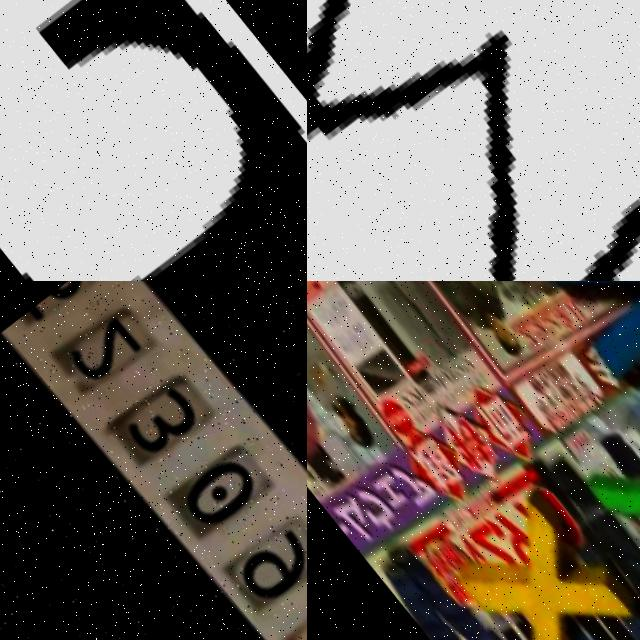0: (142, 417, 286, 557)
2: (32, 284, 162, 409)
3: (90, 354, 221, 481)
5: (0, 0, 307, 281), (8, 281, 111, 346), (254, 563, 307, 640)
9: (199, 492, 307, 628)
M: (307, 0, 640, 281)
V: (518, 281, 640, 390)
X: (434, 478, 640, 640)
Y: (580, 404, 640, 610)
